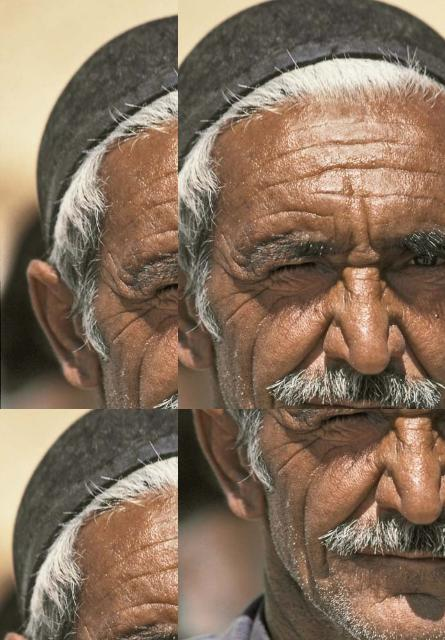chin: (391, 583, 442, 613), (73, 620, 97, 638)
crows_feet: (272, 412, 312, 452), (23, 522, 44, 552), (55, 102, 75, 128), (171, 520, 178, 545), (172, 110, 178, 128)
forehead: (138, 436, 168, 476), (103, 431, 131, 472), (66, 430, 94, 470), (56, 472, 92, 500), (38, 436, 60, 468), (149, 73, 171, 83)
frown_line: (92, 507, 114, 537), (398, 409, 434, 427), (111, 479, 123, 513), (282, 144, 300, 162)
gummy_smile: (344, 468, 380, 518), (132, 556, 162, 586), (54, 556, 80, 588), (321, 184, 345, 216), (279, 193, 296, 235), (154, 146, 172, 168)
masseter: (291, 489, 319, 555), (168, 574, 178, 605), (26, 558, 38, 582)
